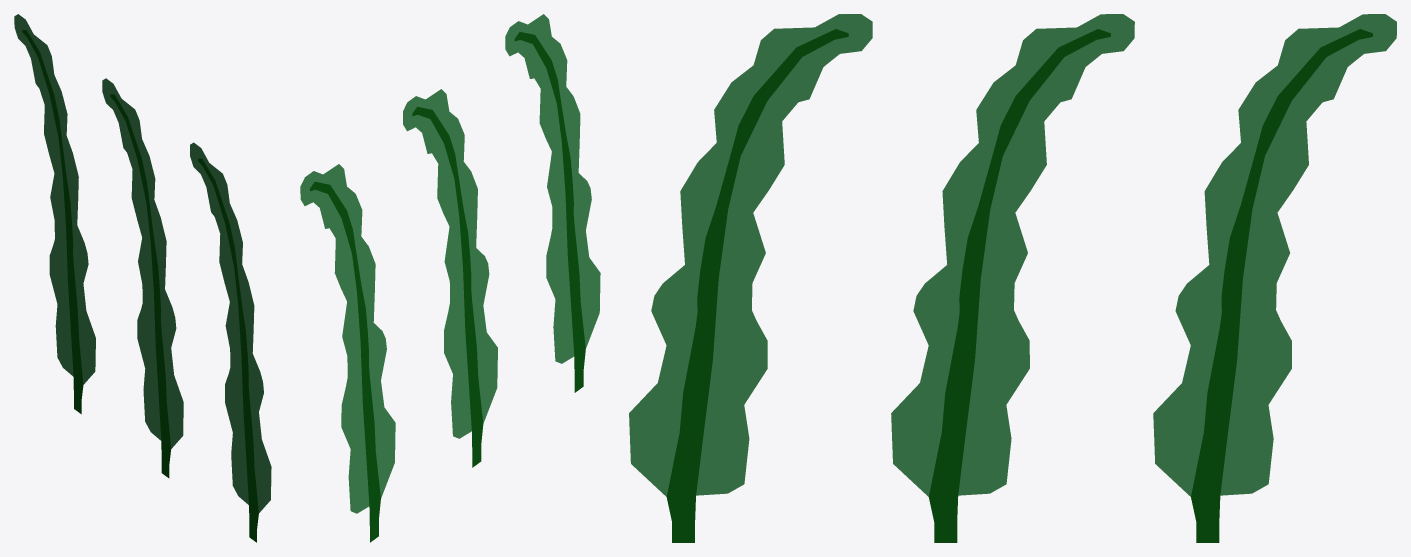
File: seaweed-2d.fbx
3 renders of one model, left to right at view 1: azimuth 30°, elevation 25°; view 2: azimuth 150°, elevation 25°; view 3: azimuth 270°, elevation 25°, orthographic. The views are drawn at different scales.
Parts seen in each view (by area): view 1: Plane.001, Plane.003, Plane.005; view 2: Plane.003, Plane.005, Plane.001; view 3: Plane.001, Plane.005, Plane.003.
Part boxes in pixels (x1,y1,x2,y2): Plane.001: (102, 78, 183, 478); Plane.003: (190, 142, 271, 542); Plane.005: (14, 14, 95, 414); Plane.003: (505, 14, 600, 392); Plane.005: (300, 164, 395, 542); Plane.001: (403, 89, 497, 467); Plane.001: (891, 14, 1134, 542); Plane.005: (1153, 14, 1396, 542); Plane.003: (629, 14, 872, 542).
Bounding box in the file's own units: 369 × 281 × 0.0554.
